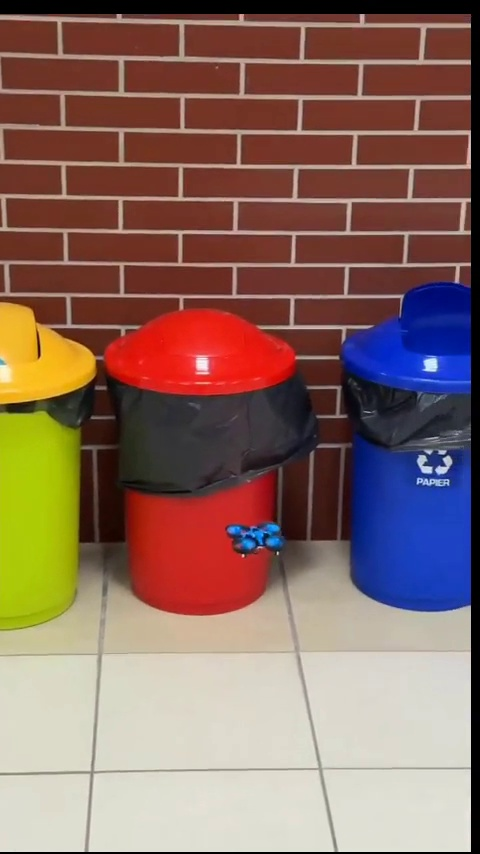drone: (223, 523, 287, 561)
